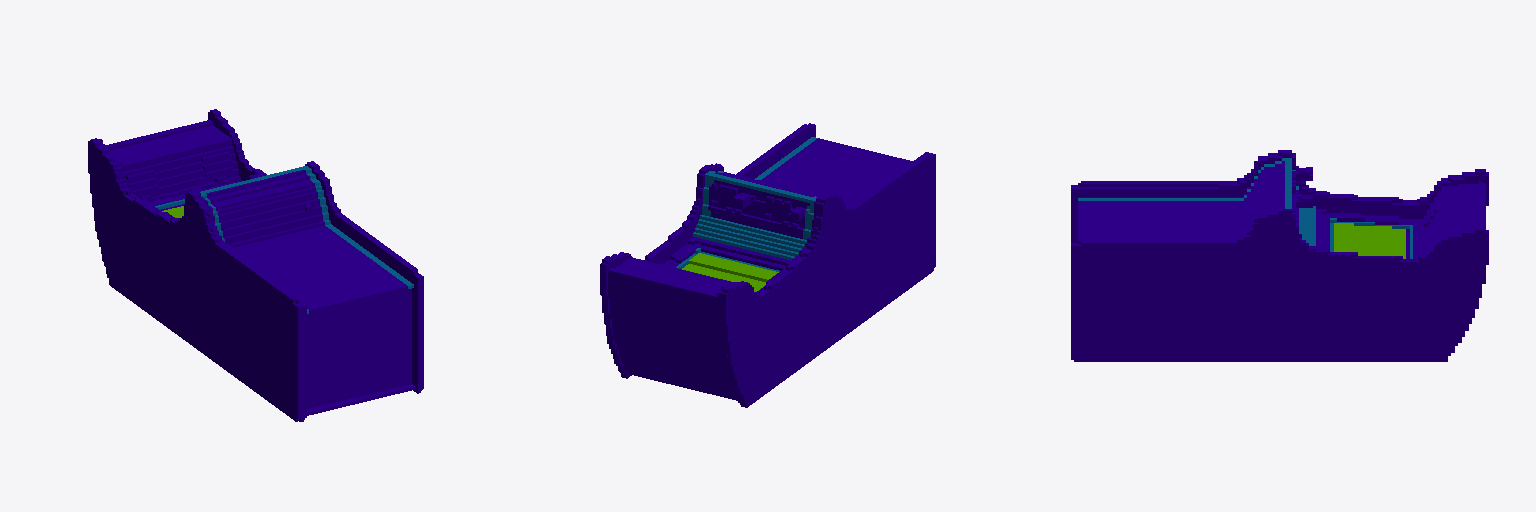
The picture shows the model from 3 angles: view 1: azimuth 30°, elevation 25°; view 2: azimuth 150°, elevation 25°; view 3: azimuth 270°, elevation 25°; orthographic projection.
Visible parts, largest first — view 1: object 1; view 2: object 1; view 3: object 1.
Boxes of the visible parts, x1=… form: object 1: x1=88, y1=109, x2=423, y2=421; object 1: x1=600, y1=123, x2=935, y2=407; object 1: x1=1071, y1=150, x2=1488, y2=361.
Bounding box in the file's own units: 4.2 × 4.8 × 12.1.
1 materials, 1 textured.